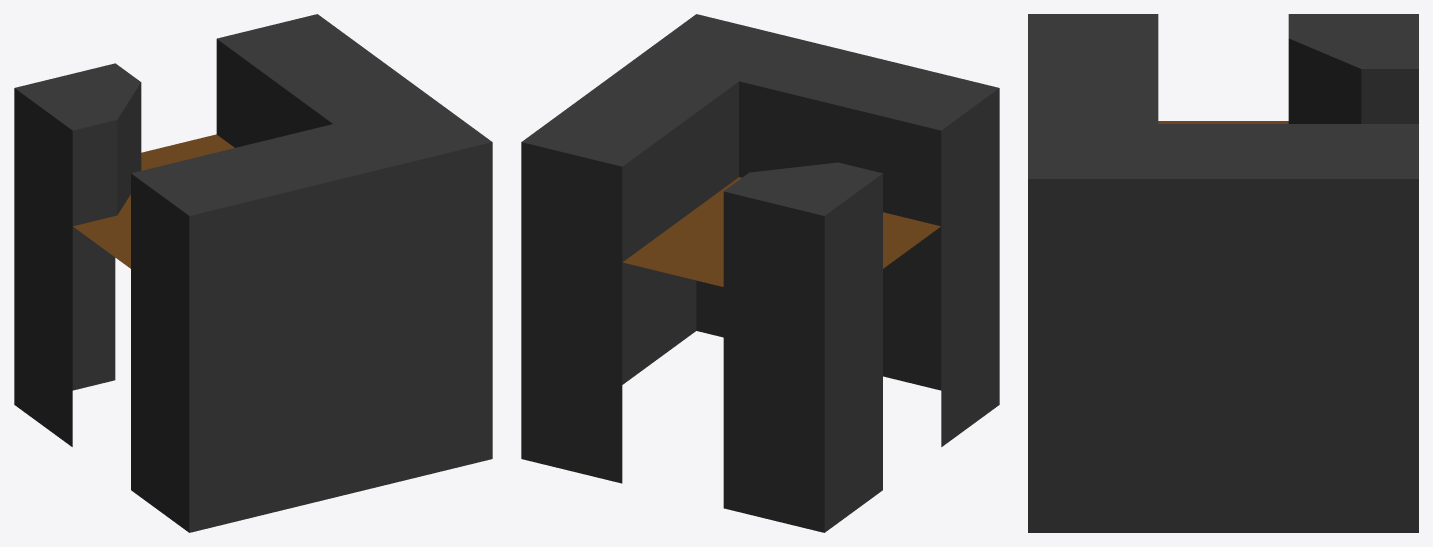
Rendered from Turn.fbx.
3 renders of one model, left to right at view 1: azimuth 30°, elevation 25°; view 2: azimuth 150°, elevation 25°; view 3: azimuth 270°, elevation 25°, orthographic. The views are drawn at different scales.
Visible parts, largest first — view 1: Turn; view 2: Turn; view 3: Turn.
Part boxes in pixels (box(x1,y1,x2,y2)): Turn: box(14, 14, 492, 532); Turn: box(521, 14, 999, 532); Turn: box(1028, 14, 1418, 532).
Size of the model in its own units: 200 by 200 by 200.
